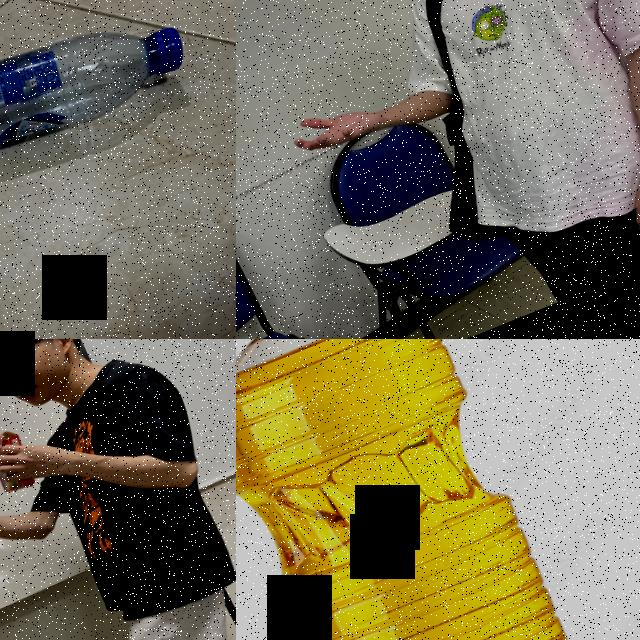bottle: (236, 339, 605, 640), (0, 0, 216, 247)
